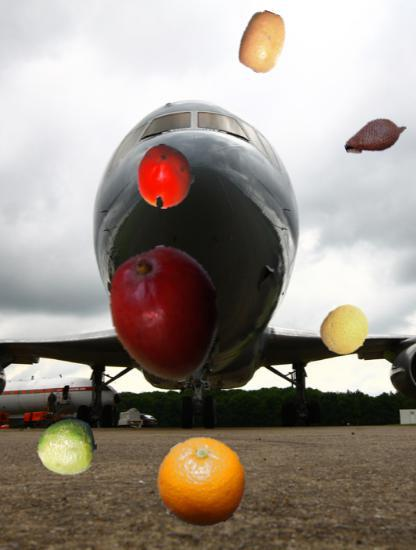Cantaloupe: (320, 304, 372, 356)
Kaki: (134, 144, 199, 209)
Kumquats: (232, 11, 295, 74)
Limes: (36, 416, 98, 478)
Mango: (96, 245, 235, 384)
Orange: (156, 437, 247, 528)
Salak: (343, 103, 409, 169)
